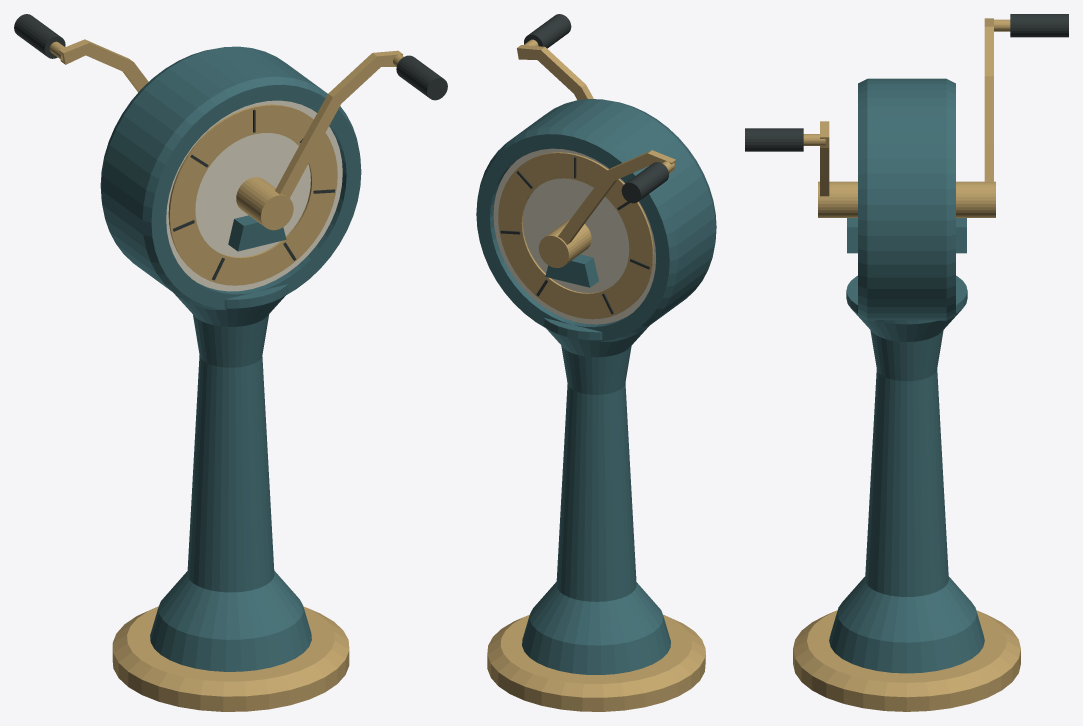
3 views of the same model, side by side, from view 1: azimuth 30°, elevation 25°; view 2: azimuth 150°, elevation 25°; view 3: azimuth 270°, elevation 25° (orthographic). The views are drawn at different scales.
Visible parts, largest first — view 1: WholeWaistedColumn, WholeThickDoubleOpenDrum, WholeFootPlinth, FrontWholeBlankSectorBand, FrontWholeRecessedFace, FrontWholeCurvedOperatingLever, FrontWholeAxialBoss, BackWholeCurvedOperatingLever, FrontWholeCrossGrip, FrontWholeLowerPositioningHood, BackWholeCrossGrip; view 2: WholeWaistedColumn, WholeThickDoubleOpenDrum, WholeFootPlinth, BackWholeBlankSectorBand, BackWholeRecessedFace, BackWholeCurvedOperatingLever, BackWholeAxialBoss, FrontWholeCurvedOperatingLever, BackWholeCrossGrip, BackWholeLowerPositioningHood, FrontWholeCrossGrip; view 3: WholeWaistedColumn, WholeThickDoubleOpenDrum, WholeFootPlinth, BackWholeCurvedOperatingLever, BackWholeAxialBoss, BackWholeCrossGrip, FrontWholeCrossGrip, FrontWholeAxialBoss, FrontWholeCurvedOperatingLever.
Part boxes in pixels (x1,y1,x2,y2): WholeWaistedColumn: [150, 284, 311, 671]; WholeThickDoubleOpenDrum: [100, 46, 361, 309]; WholeFootPlinth: [112, 606, 349, 711]; FrontWholeBlankSectorBand: [168, 104, 337, 285]; FrontWholeRecessedFace: [166, 100, 342, 291]; FrontWholeCurvedOperatingLever: [275, 50, 403, 198]; FrontWholeAxialBoss: [236, 177, 293, 230]; BackWholeCurvedOperatingLever: [59, 39, 148, 92]; FrontWholeCrossGrip: [396, 55, 447, 100]; FrontWholeLowerPositioningHood: [228, 215, 286, 251]; BackWholeCrossGrip: [14, 14, 65, 58]; WholeWaistedColumn: [522, 318, 670, 674]; WholeThickDoubleOpenDrum: [476, 99, 716, 341]; WholeFootPlinth: [487, 614, 705, 711]; BackWholeBlankSectorBand: [498, 152, 653, 319]; BackWholeRecessedFace: [493, 148, 656, 324]; BackWholeCurvedOperatingLever: [558, 150, 675, 244]; BackWholeAxialBoss: [538, 219, 591, 267]; FrontWholeCurvedOperatingLever: [517, 45, 593, 100]; BackWholeCrossGrip: [621, 162, 668, 203]; BackWholeLowerPositioningHood: [545, 254, 598, 287]; FrontWholeCrossGrip: [524, 14, 571, 48]; WholeWaistedColumn: [829, 275, 984, 673]; WholeThickDoubleOpenDrum: [858, 78, 955, 320]; WholeFootPlinth: [793, 610, 1020, 711]; BackWholeCurvedOperatingLever: [984, 18, 993, 181]; BackWholeAxialBoss: [956, 181, 995, 217]; BackWholeCrossGrip: [1010, 14, 1068, 37]; FrontWholeCrossGrip: [745, 128, 803, 151]; FrontWholeAxialBoss: [818, 181, 857, 217]; FrontWholeCurvedOperatingLever: [820, 121, 829, 196].
Size of the model in its own units: 0.632 by 1.4 by 0.696.
